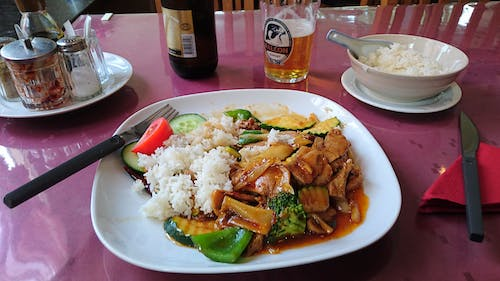alcohol: (257, 0, 321, 85), (160, 0, 219, 81)
knife: (459, 109, 486, 245)
